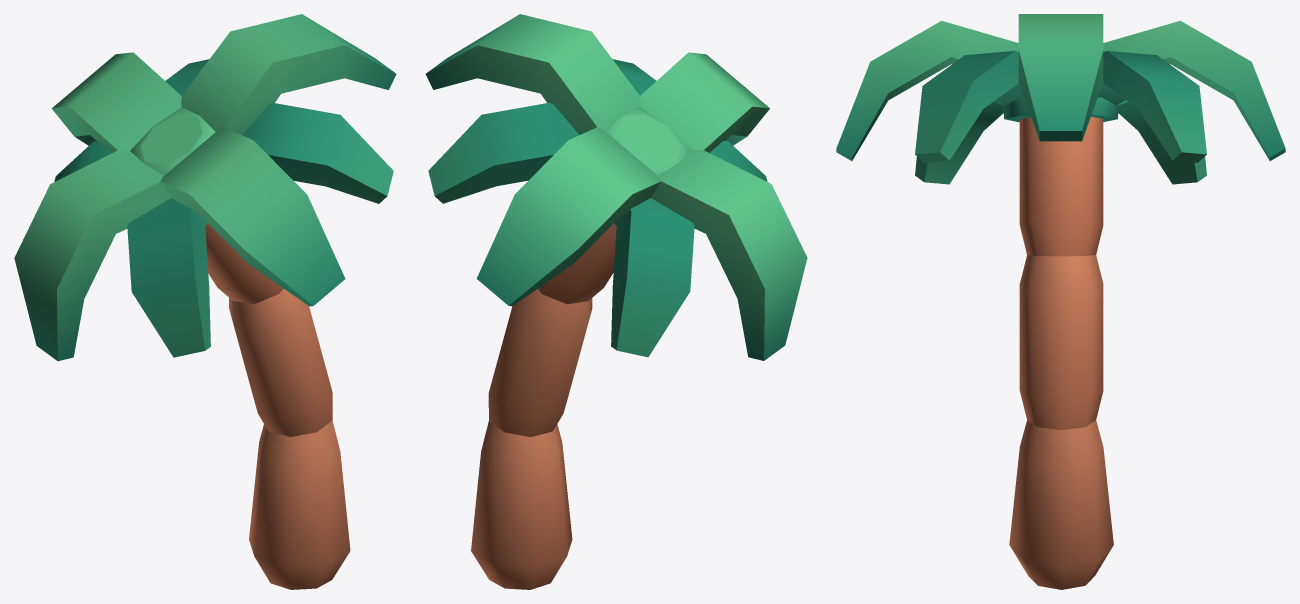
Rendered from palm_3.fbx.
3 views of the same model, side by side, from view 1: azimuth 30°, elevation 25°; view 2: azimuth 150°, elevation 25°; view 3: azimuth 270°, elevation 25° (orthographic).
Visible parts, largest first — view 1: palm_3; view 2: palm_3; view 3: palm_3.
Boxes of the visible parts, x1,y1,x2,y2 form: palm_3: (14,14,396,589); palm_3: (425,14,807,589); palm_3: (836,14,1285,589).
Bounding box in the file's own units: 2.88 × 4.25 × 3.22.
1 material, 1 textured.
